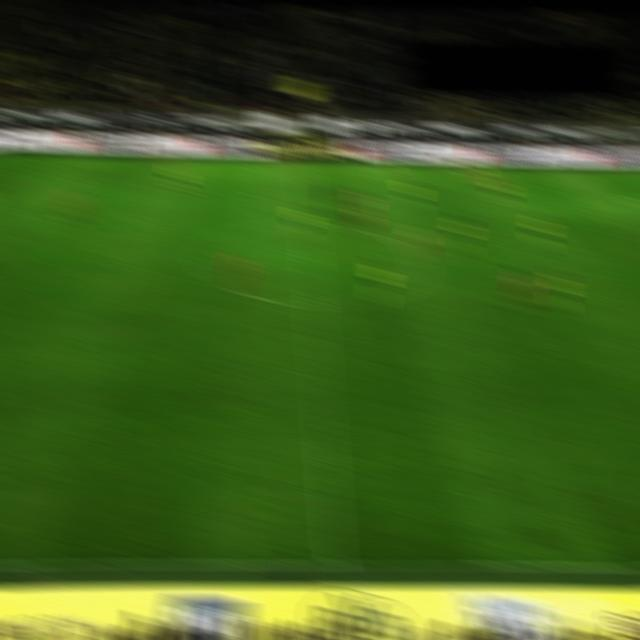bigarea_top_inner: (617, 194, 640, 208)
halfcircle_bottom: (302, 296, 328, 314)
halfcircle_top: (296, 217, 322, 232)
midline_bottom_intersection: (322, 554, 349, 575)
midline_top_intersection: (292, 155, 316, 170)
